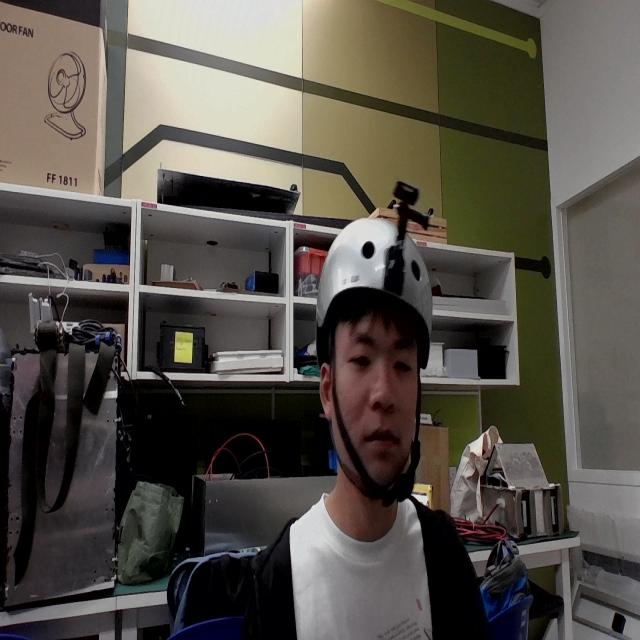With Helmet: (293, 149, 470, 557)
